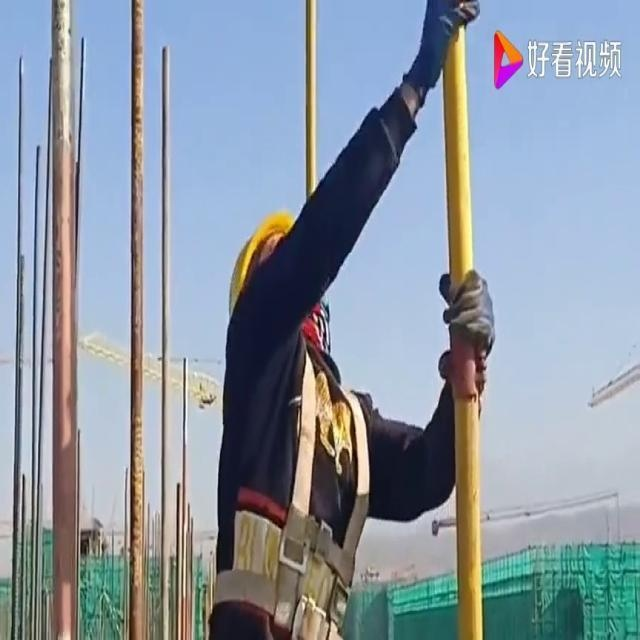Arnes_seguridad: (209, 328, 376, 639)
